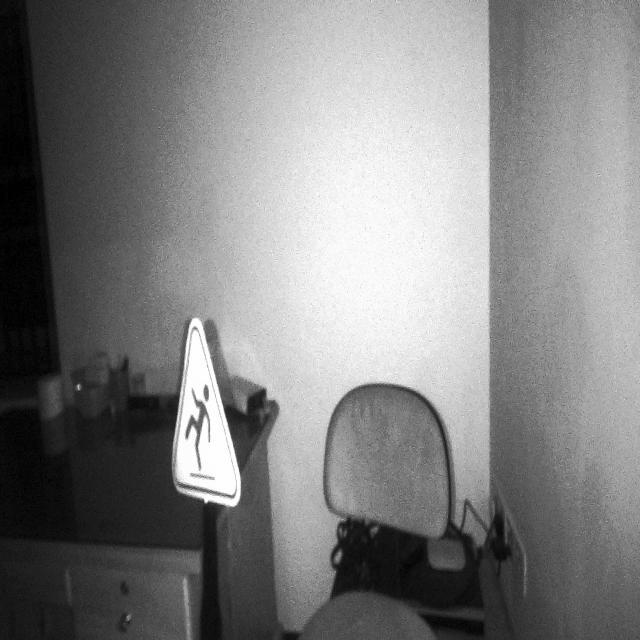Sign: (169, 316, 243, 510)
